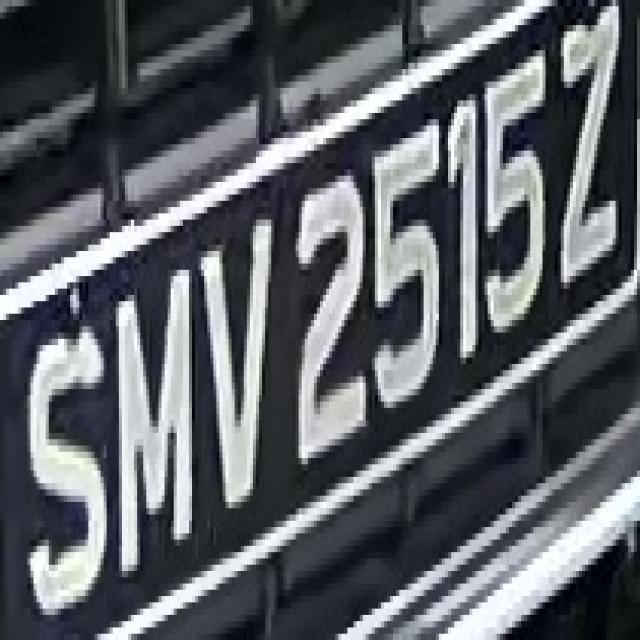1: (439, 63, 484, 376)
2: (290, 163, 368, 483)
5: (478, 44, 561, 345), (366, 120, 448, 420)
M: (107, 251, 201, 577)
S: (18, 308, 110, 628)
V: (198, 213, 271, 514)
Z: (552, 25, 634, 301)
